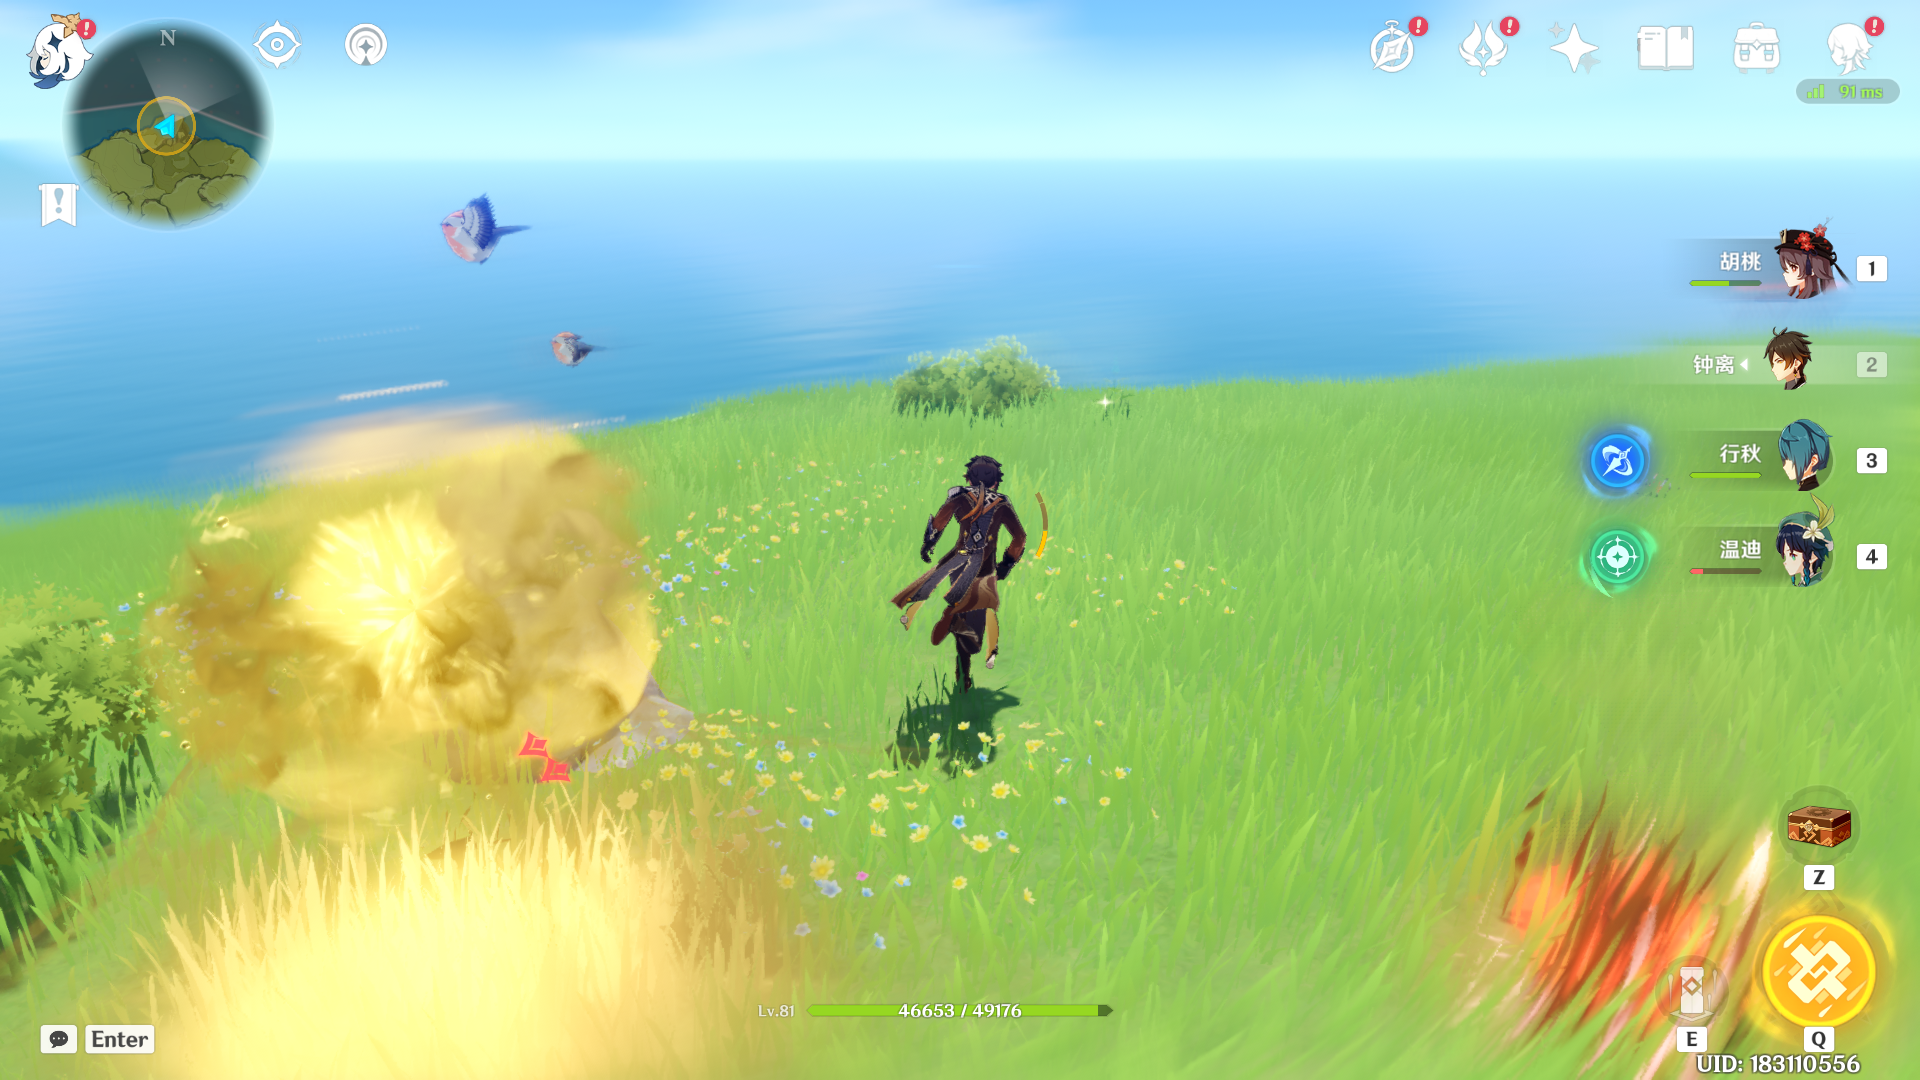character: (845, 409, 1062, 750)
